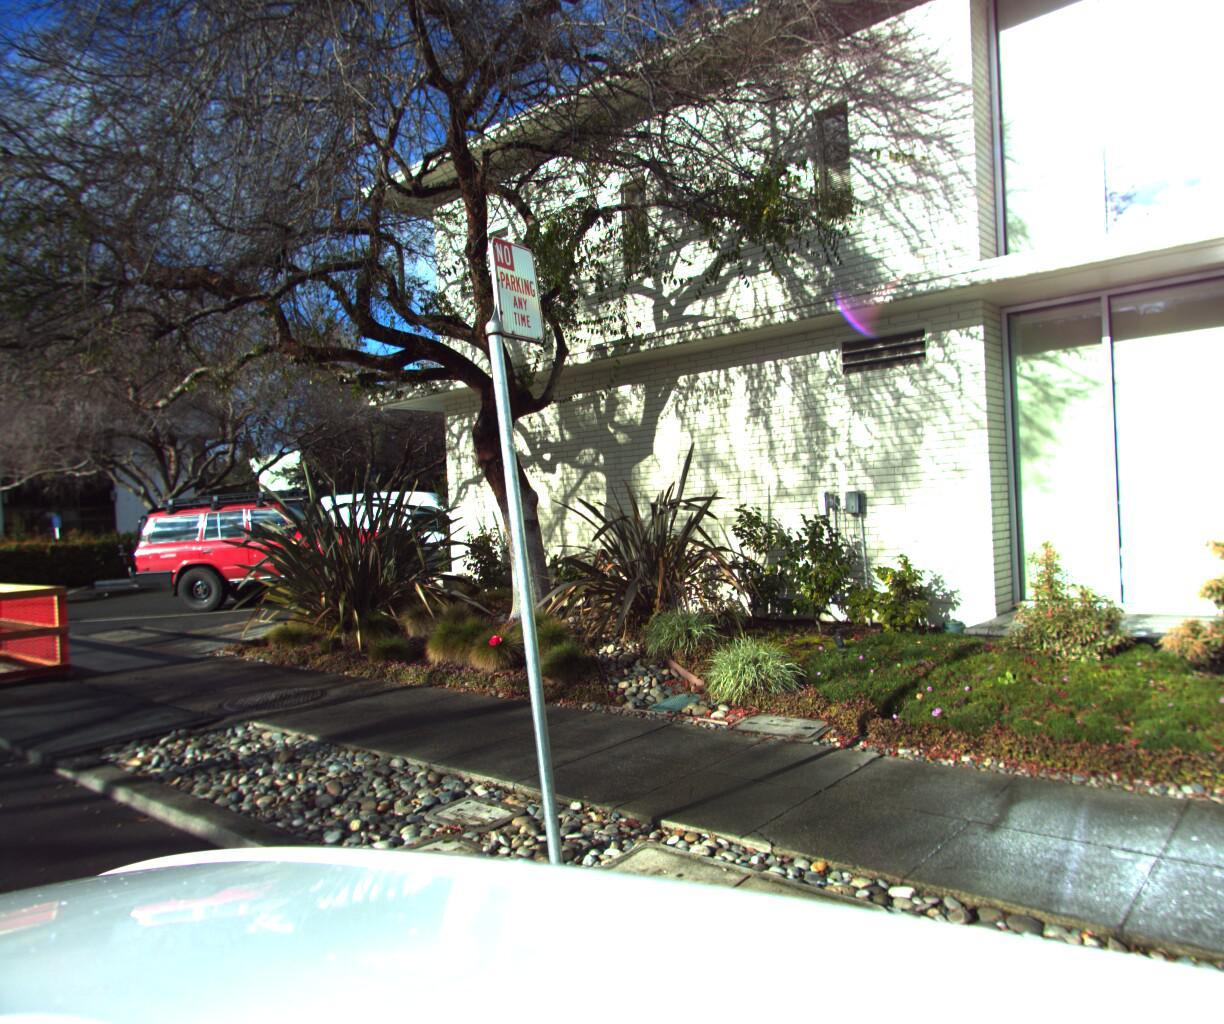car: (96, 477, 436, 611), (301, 477, 540, 587)
